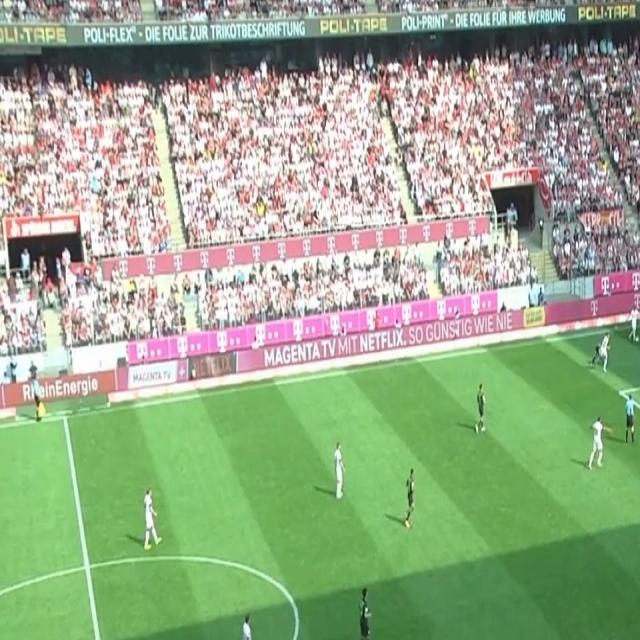ball: (634, 333, 640, 342)
